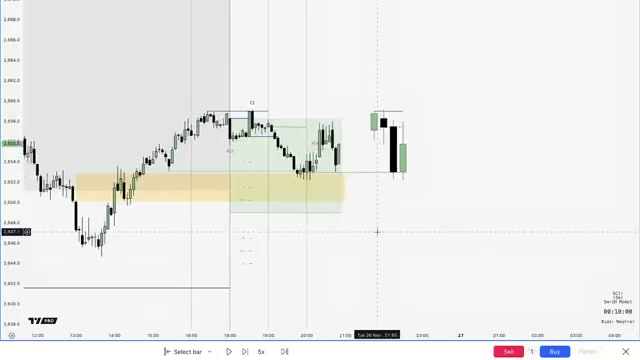bearish_reaction_zone: (74, 172, 347, 203)
